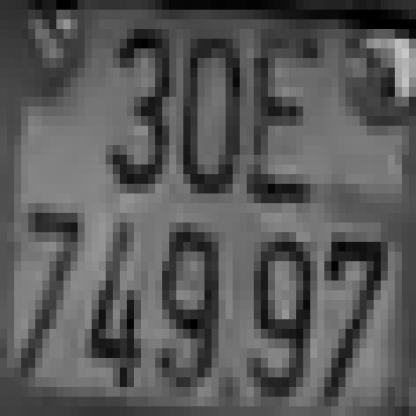0: (183, 38, 240, 194)
3: (106, 29, 176, 194)
4: (92, 222, 141, 378)
7: (317, 232, 381, 387), (21, 203, 78, 368)
9: (247, 222, 310, 387), (155, 222, 212, 387)
E: (247, 39, 310, 203)
